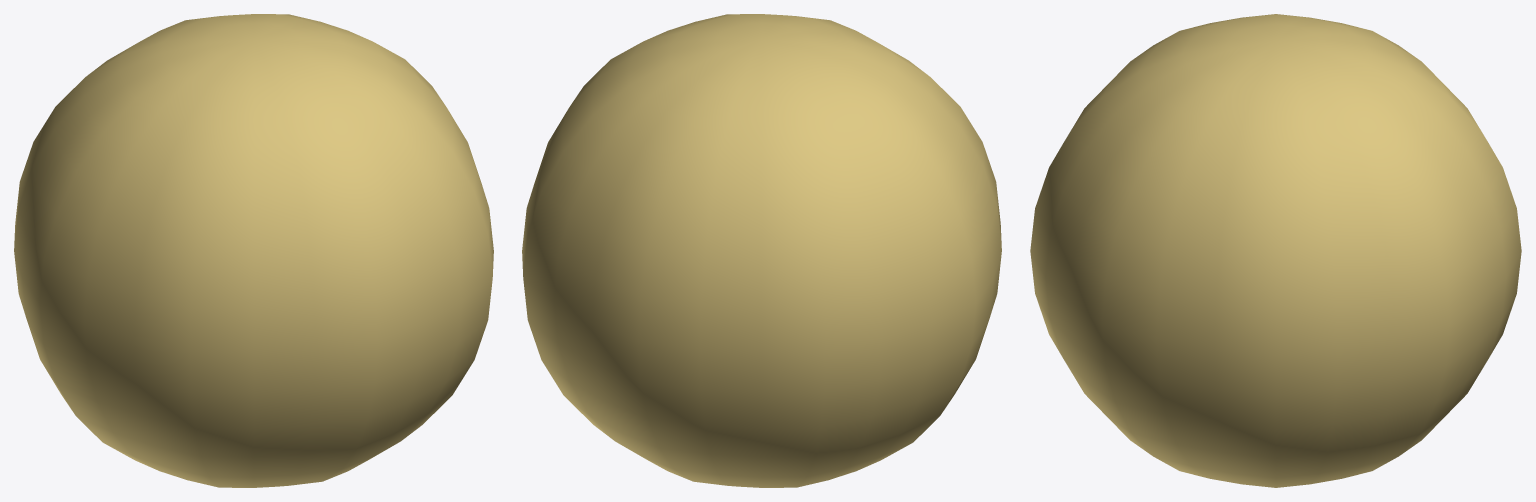
The model's file is Melon.fbx.
The picture shows the model from 3 angles, left to right: view 1: azimuth 30°, elevation 25°; view 2: azimuth 150°, elevation 25°; view 3: azimuth 270°, elevation 25°; orthographic projection.
Visible parts, largest first — view 1: Melon; view 2: Melon; view 3: Melon.
Boxes of the visible parts, left/top/right/bottom form: Melon: left=14, top=14, right=493, bottom=487; Melon: left=522, top=14, right=1001, bottom=487; Melon: left=1030, top=14, right=1521, bottom=487.
Bounding box in the file's own units: 0.1836 × 0.1728 × 0.1836.
